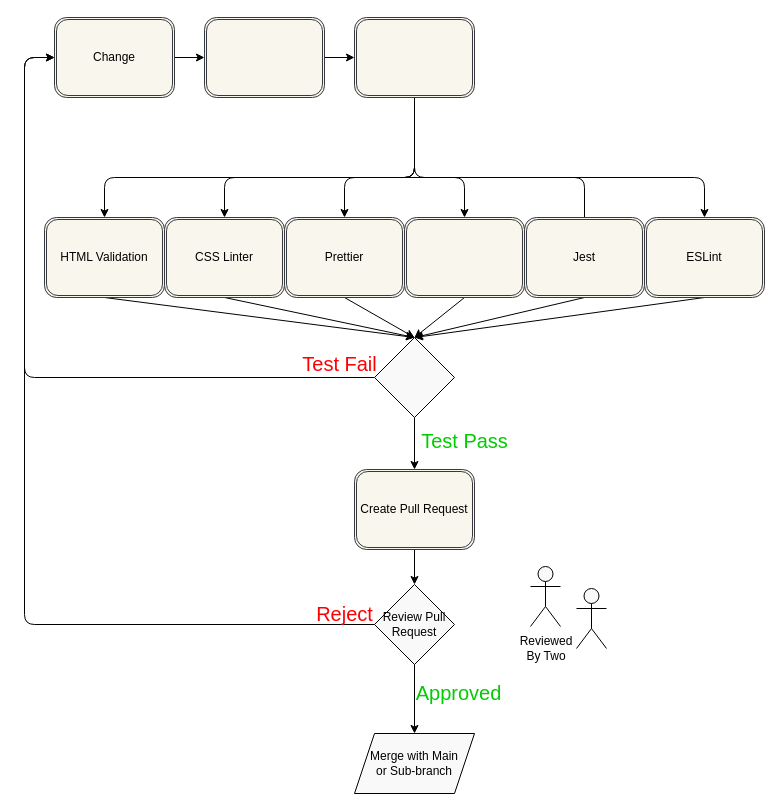
The diagram is 782 pixels wide and 811 high, and some of its shapes have lost their labels. Each missing label, with the box of its shape:
Automatic Tests (GitHub Action): (354, 16, 474, 98)
Commit Change to Branch: (204, 16, 324, 98)
JSDocs: (404, 216, 524, 298)
Test Result: (374, 336, 454, 418)
